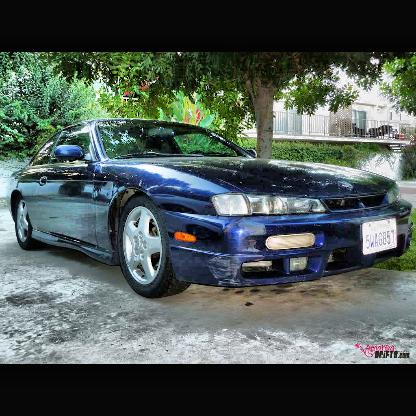Nissan 240SX Coupe 1998: (9, 119, 414, 301)
